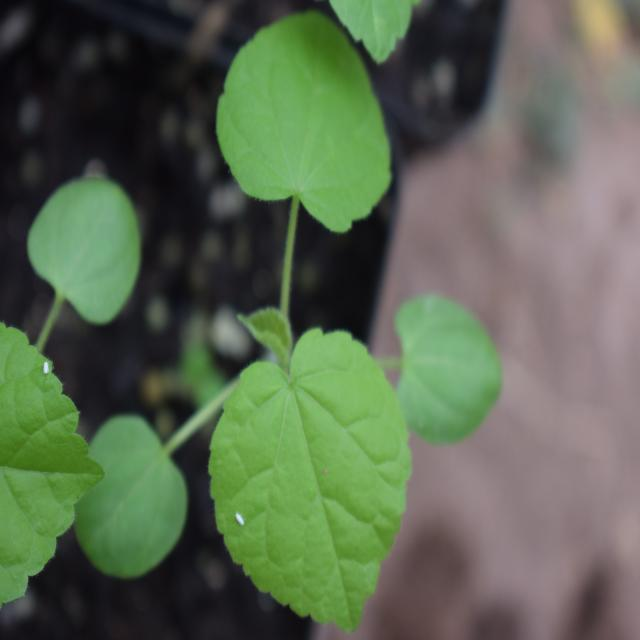abutilon theophrasti: (92, 8, 475, 608)
